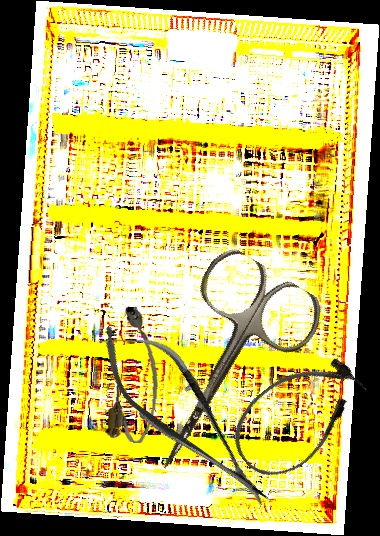Cannula: (217, 340, 379, 492), (105, 305, 166, 445)
Iris Scissors: (108, 241, 332, 500)
Micro Scissor: (81, 303, 289, 529)
